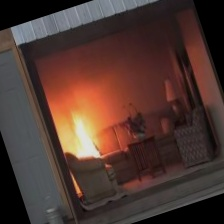fire: (44, 77, 118, 164)
